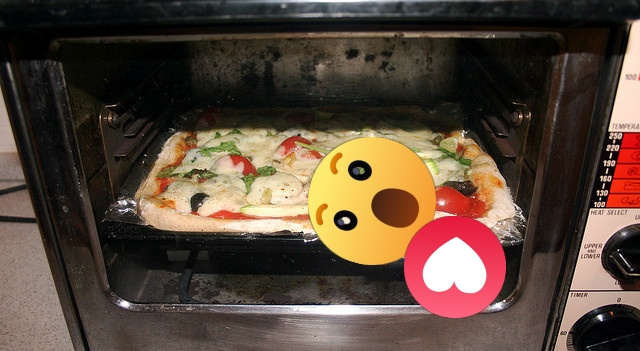love: (404, 216, 506, 318)
wow: (308, 137, 436, 265)
